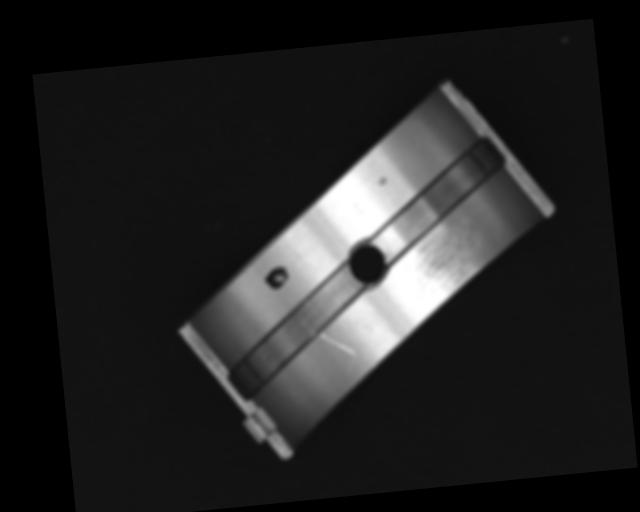blot: (262, 265, 290, 292)
bruise: (377, 176, 387, 186)
gap: (216, 264, 375, 405), (364, 134, 514, 259)
hole: (346, 236, 392, 288)
nick: (319, 328, 357, 359), (285, 238, 310, 274)
scratch: (403, 225, 489, 311)
